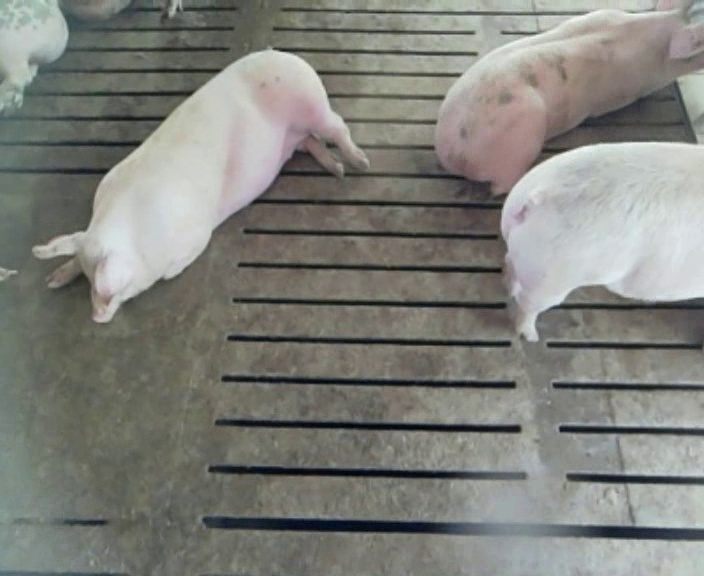pig: (33, 51, 368, 322), (436, 1, 703, 193), (501, 142, 703, 340)
